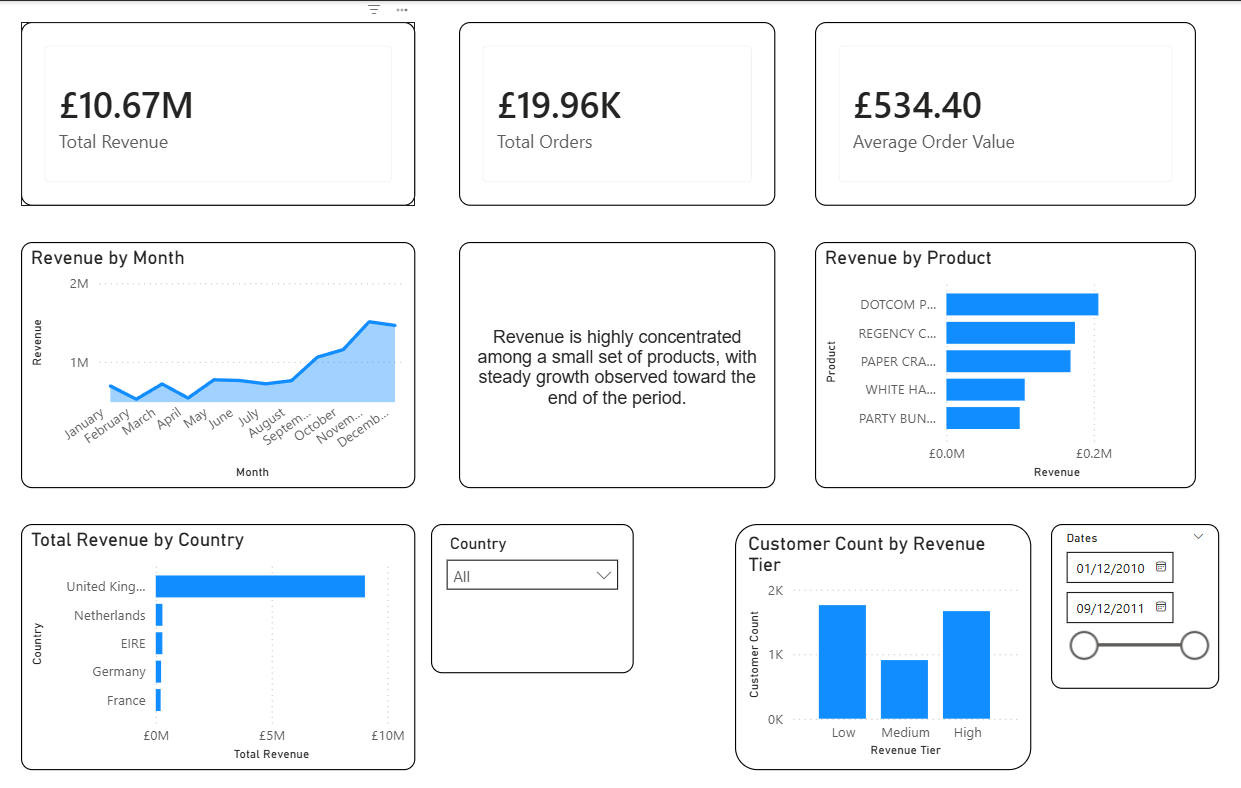

The dashboard page shown, as its layout file describes it:
{"tool":"powerbi","page":{"name":"Page 1","canvas":[1280,720],"ordinal":0},"visuals":[{"type":"cardVisual","fields":{"Data":["clean_sales.Total Revenue"]},"box":[140.1,18.5,354,165.3],"z":0},{"type":"cardVisual","fields":{"Data":["clean_sales.Total Orders"]},"box":[533,18.5,284,165.3],"z":1000},{"type":"cardVisual","fields":{"Data":["clean_sales.Average Order Value"]},"box":[853,18.5,342.4,165.3],"z":2000},{"type":"lineChart","fields":{"Y":["Sum(clean_sales.Revenue)"],"Category":["clean_sales.InvoiceDate.Variation.Date Hierarchy.Month"]},"box":[140.1,215.9,354,220.8],"z":3000},{"type":"clusteredBarChart","fields":{"Category":["clean_sales.Description"],"Y":["clean_sales.Total Revenue"]},"box":[853,215.9,342.4,220.8],"z":4000},{"type":"clusteredBarChart","fields":{"Category":["clean_sales.Country"],"Y":["clean_sales.Total Revenue"]},"box":[140.1,469.8,354,220.8],"z":5000},{"type":"clusteredColumnChart","fields":{"Category":["Query1.customer_segment"],"Y":["Sum(Query1.customer_count)"]},"box":[781,469.8,265.5,220.8],"z":6000},{"type":"slicer","fields":{"Values":["clean_sales.InvoiceDate_Clean"]},"box":[1065,469.8,150.8,147.8],"z":7000},{"type":"textbox","box":[533,215.9,284,220.8],"z":8000},{"type":"slicer","fields":{"Values":["clean_sales.Country"]},"box":[507.7,469.8,181.9,134.2],"z":9000}]}

Visuals, with their boxes on the page's 1280x720 design canvas (x1, y1, x2, y2). These are canvas units, not pixel positions in the 1241x788 screenshot, which may show the page scaled, cropped or inside an application window:
cardVisual - clean_sales.Total Revenue: [x1=140, y1=18, x2=494, y2=184]
cardVisual - clean_sales.Total Orders: [x1=533, y1=18, x2=817, y2=184]
cardVisual - clean_sales.Average Order Value: [x1=853, y1=18, x2=1195, y2=184]
lineChart - Sum(clean_sales.Revenue) x clean_sales.InvoiceDate.Variation.Date Hierarchy.Month: [x1=140, y1=216, x2=494, y2=437]
clusteredBarChart - clean_sales.Description x clean_sales.Total Revenue: [x1=853, y1=216, x2=1195, y2=437]
clusteredBarChart - clean_sales.Country x clean_sales.Total Revenue: [x1=140, y1=470, x2=494, y2=691]
clusteredColumnChart - Query1.customer_segment x Sum(Query1.customer_count): [x1=781, y1=470, x2=1046, y2=691]
slicer - clean_sales.InvoiceDate_Clean: [x1=1065, y1=470, x2=1216, y2=618]
textbox: [x1=533, y1=216, x2=817, y2=437]
slicer - clean_sales.Country: [x1=508, y1=470, x2=690, y2=604]
